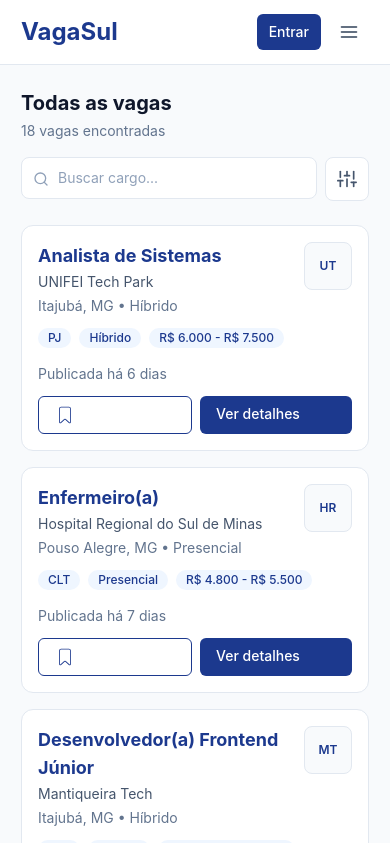
Jobs page › opens a full-width filters drawer
The image size is (390, 843).
Click the button named "Abrir filtros": (347, 179) x1=325 y1=157 x2=369 y2=201
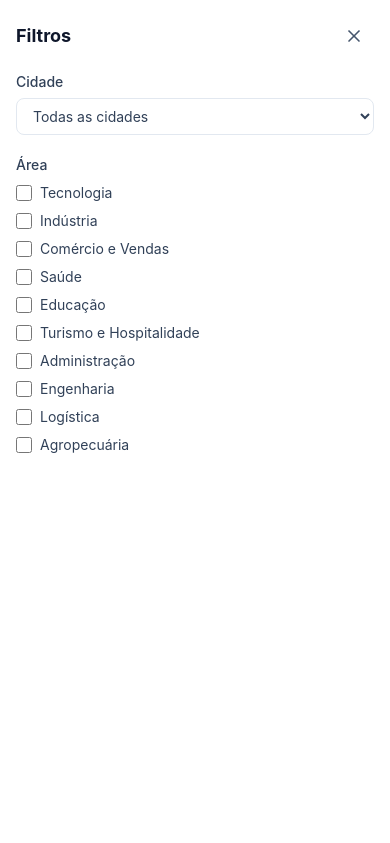
Check: the button named "Fechar filtros" is shown
Click the button named "Fechar filtros": (354, 36) x1=334 y1=16 x2=374 y2=56
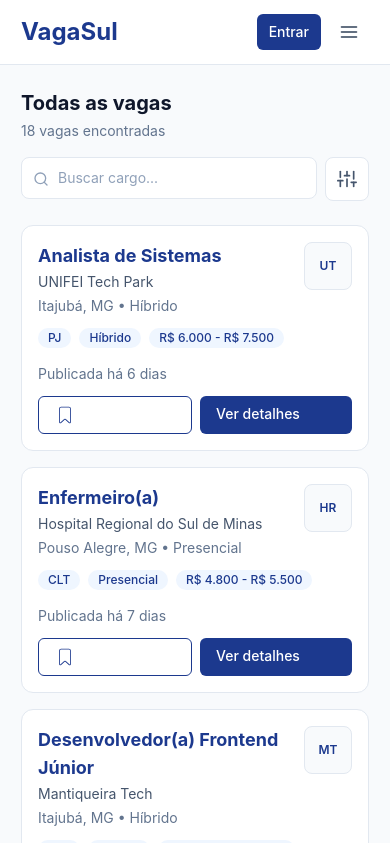
Check: the heading "Filtros" is gone
